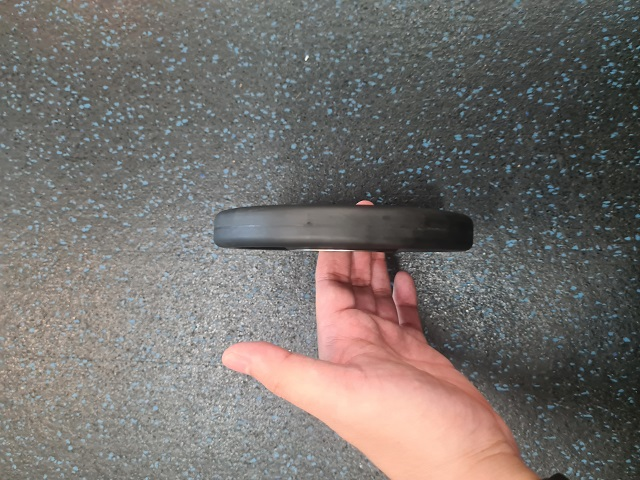weights: (211, 203, 479, 253)
